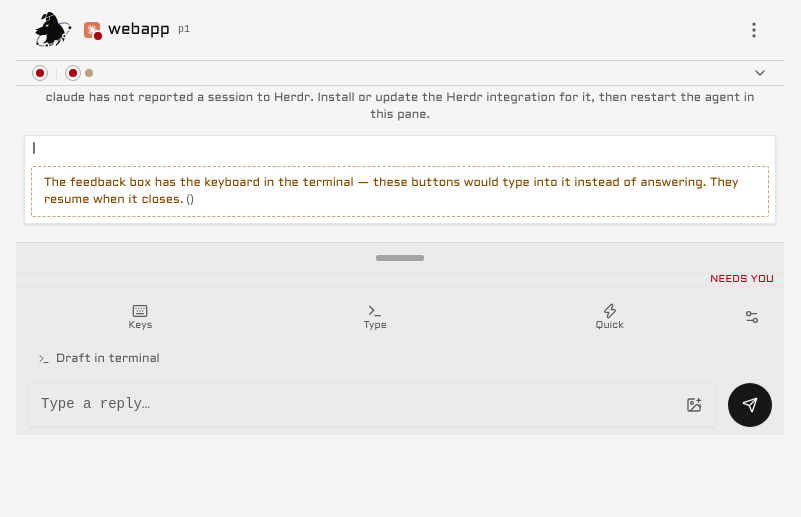
AgentChat — folding the tab and pane rows › puts the rows back on a tap anywhere on the bar
Step 1. Click the button named "Show tabs and panes" → click(40, 73), box [16,61,784,85]
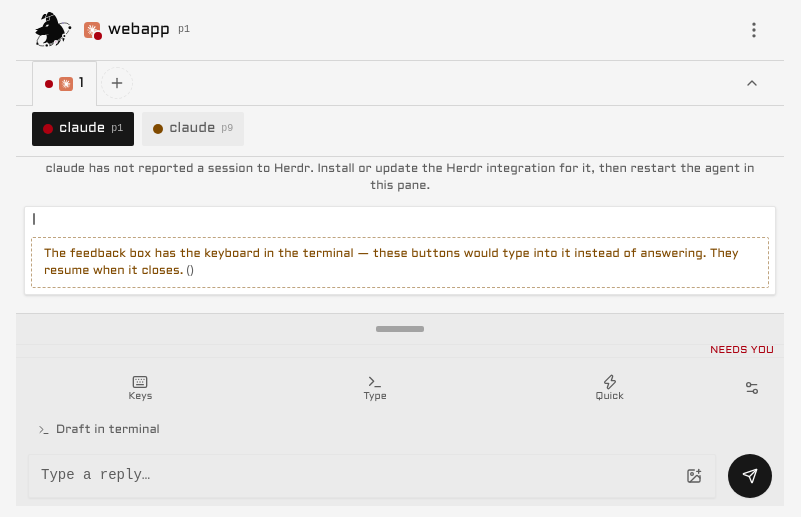
Now the navigation bar named "Tabs" is shown, box [16,61,784,106]
